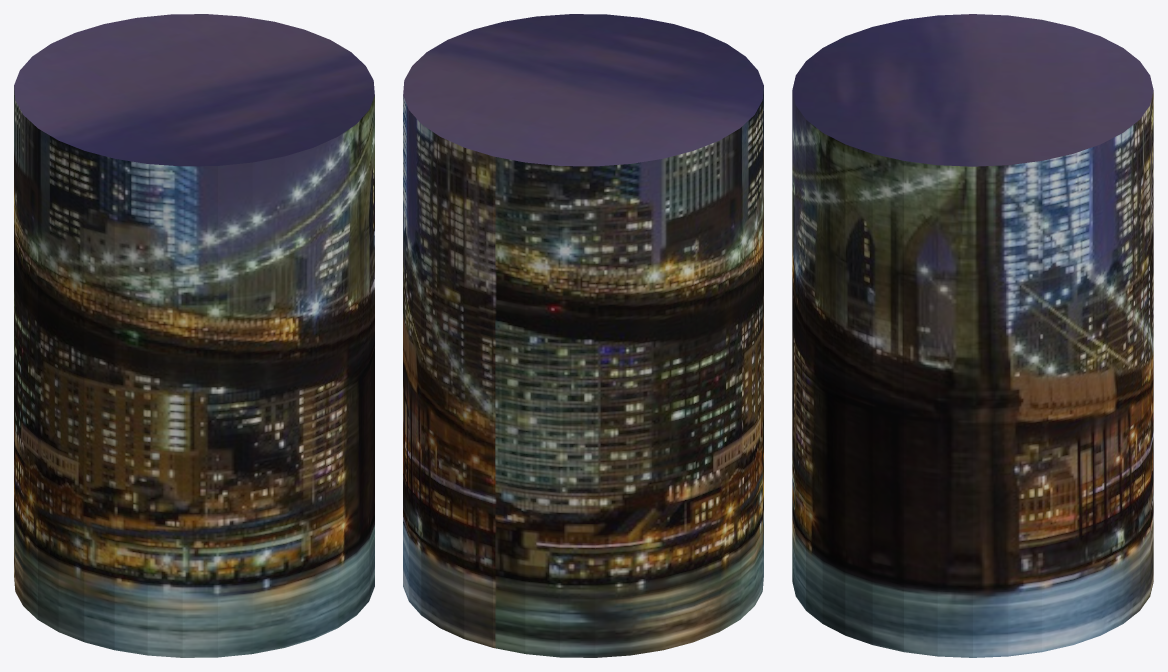
Rendered from mycilinder.fbx.
3 views of the same model, side by side, from view 1: azimuth 30°, elevation 25°; view 2: azimuth 150°, elevation 25°; view 3: azimuth 270°, elevation 25° (orthographic).
Parts seen in each view (by area): view 1: Cylinder; view 2: Cylinder; view 3: Cylinder.
Boxes of the visible parts, <box> form: Cylinder: <box>14,14,374,657</box>; Cylinder: <box>403,14,763,657</box>; Cylinder: <box>792,14,1153,657</box>.
Bounding box in the file's own units: 400 × 600 × 400.
1 material, 1 textured.
